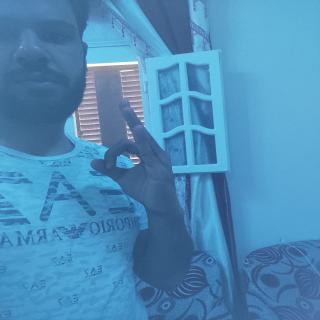Space: (74, 79, 200, 240)
